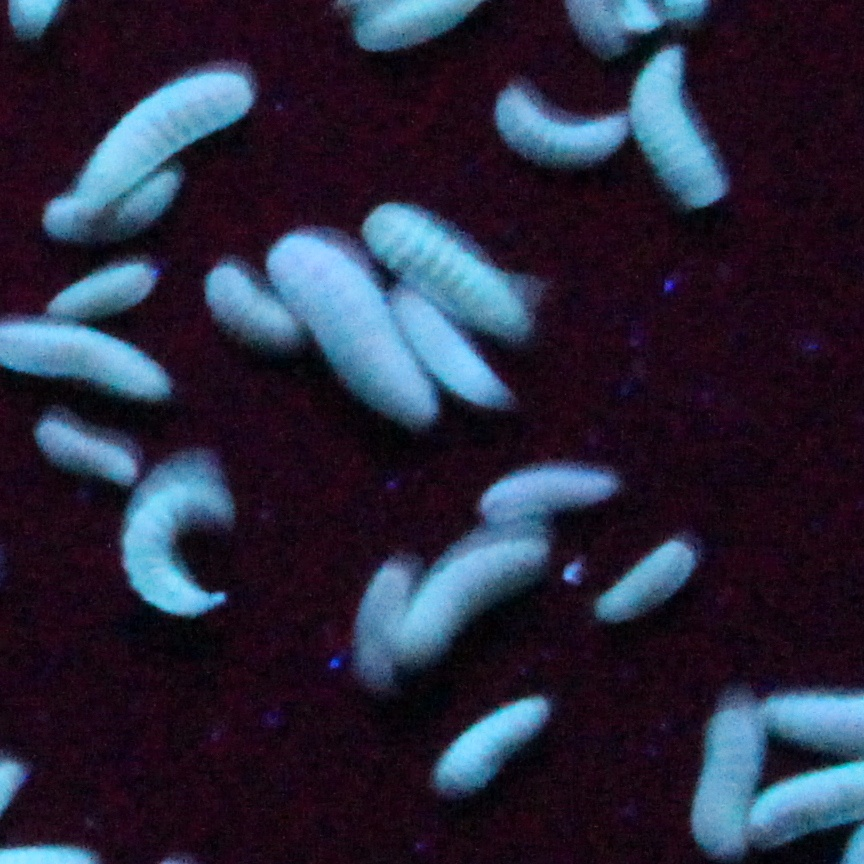larve: (44, 73, 251, 234), (267, 234, 433, 425), (362, 203, 527, 338), (395, 538, 546, 661), (124, 476, 230, 617), (632, 50, 724, 209), (393, 292, 510, 414), (435, 697, 548, 794), (693, 707, 762, 851), (497, 90, 628, 163), (595, 538, 693, 621), (480, 469, 618, 521), (206, 266, 296, 345), (356, 563, 408, 683), (37, 422, 135, 485), (48, 265, 153, 319)
